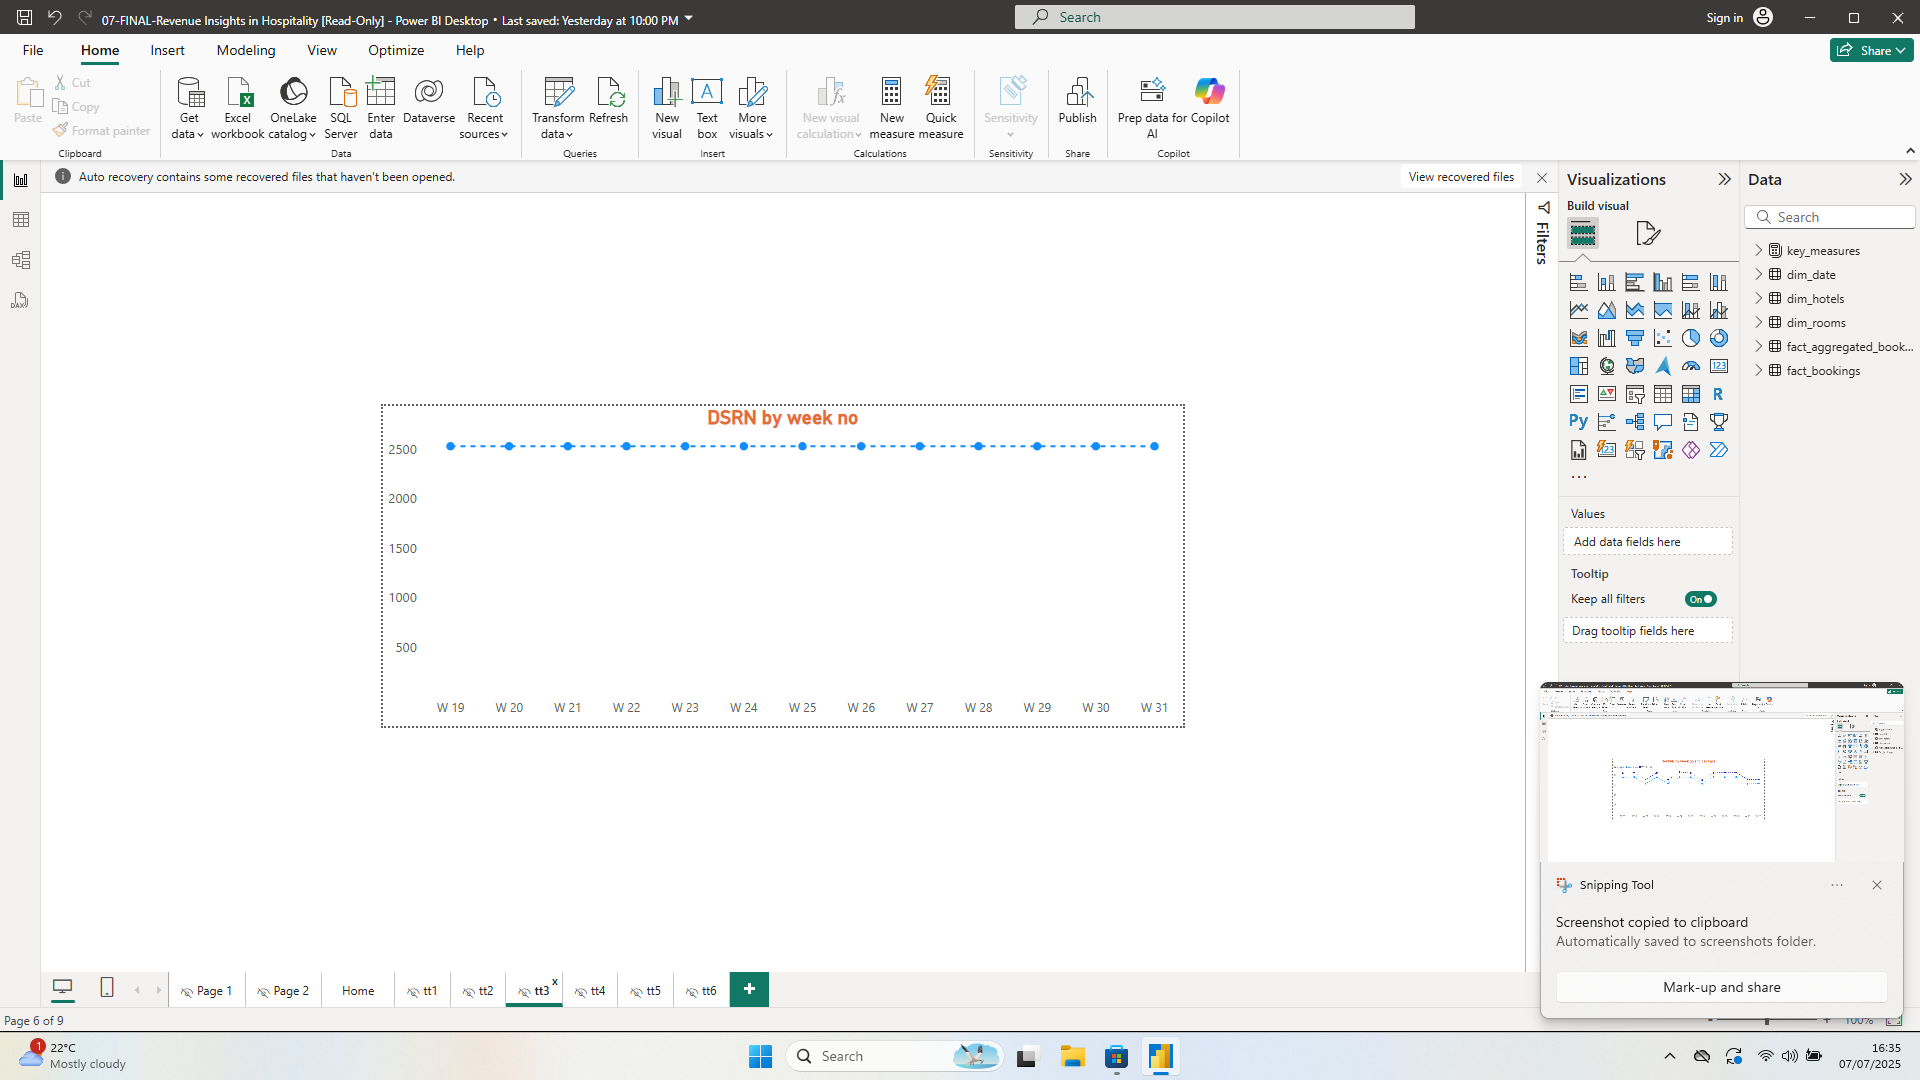

The dashboard page shown, as its layout file describes it:
{"tool":"powerbi","page":{"name":"tt3","canvas":[800,320],"ordinal":5},"visuals":[{"type":"lineChart","fields":{"Category":["dim_date.week no"],"Y":["key_measures.DSRN"]},"box":[0,0,800,320],"z":0}]}

Visuals, with their boxes on the page's 800x320 design canvas (x1, y1, x2, y2). These are canvas units, not pixel positions in the 1920x1080 screenshot, which may show the page scaled, cropped or inside an application window:
lineChart - dim_date.week no x key_measures.DSRN: x1=0, y1=0, x2=800, y2=320
